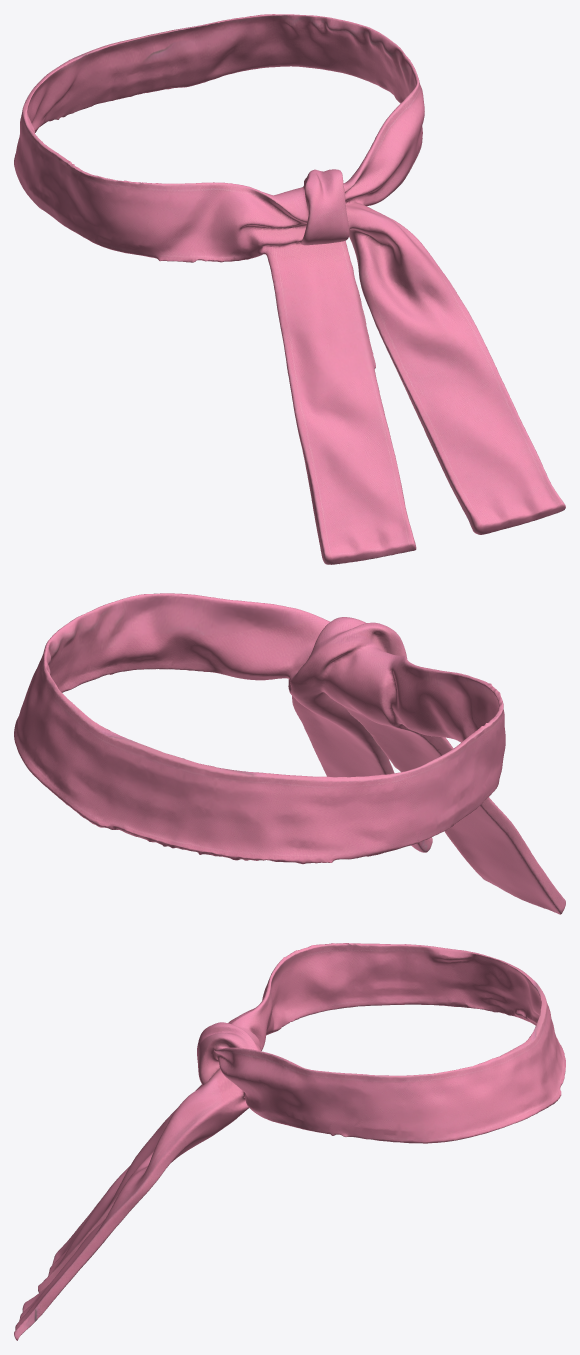
The model's file is compressed-sabuk.glb.
3 views of the same model, one above another, from view 1: azimuth 30°, elevation 25°; view 2: azimuth 150°, elevation 25°; view 3: azimuth 270°, elevation 25° (orthographic). The views are drawn at different scales.
Visible parts, largest first — view 1: mesh_node; view 2: mesh_node; view 3: mesh_node.
Boxes of the visible parts, <box> form: mesh_node: <box>14,14,565,564</box>; mesh_node: <box>14,593,565,914</box>; mesh_node: <box>14,943,565,1340</box>.
Size of the model in its own units: 1.31 by 1.14 by 1.9.
Materials: 1 (1 with a texture image).
